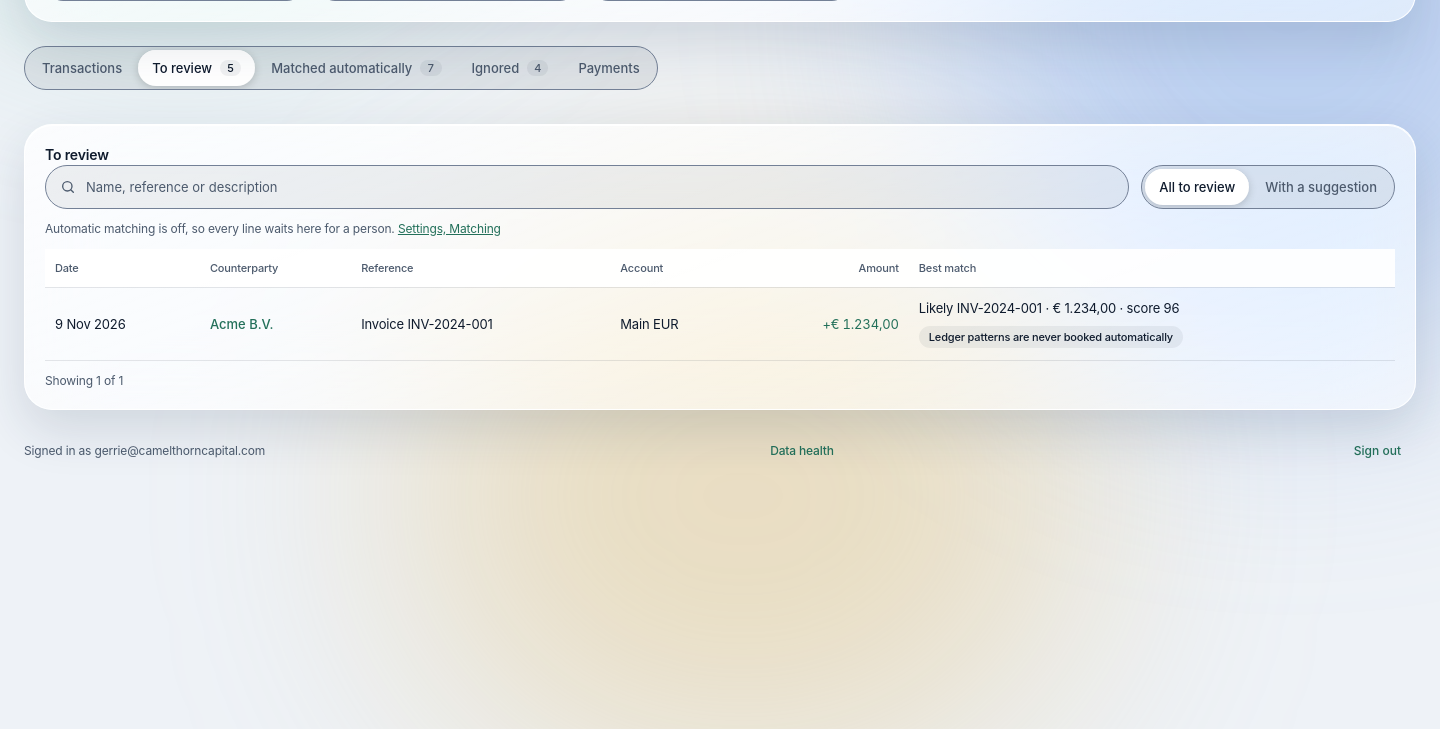
it: match sheet boundary › a malformed detail leaves the page and the sheet's close button working
(page scrolled)
What coordinates should you click on to do the following:
click the button "Acme B.V."
I would click on:
 (242, 324)
Its box is [210, 312, 274, 336].
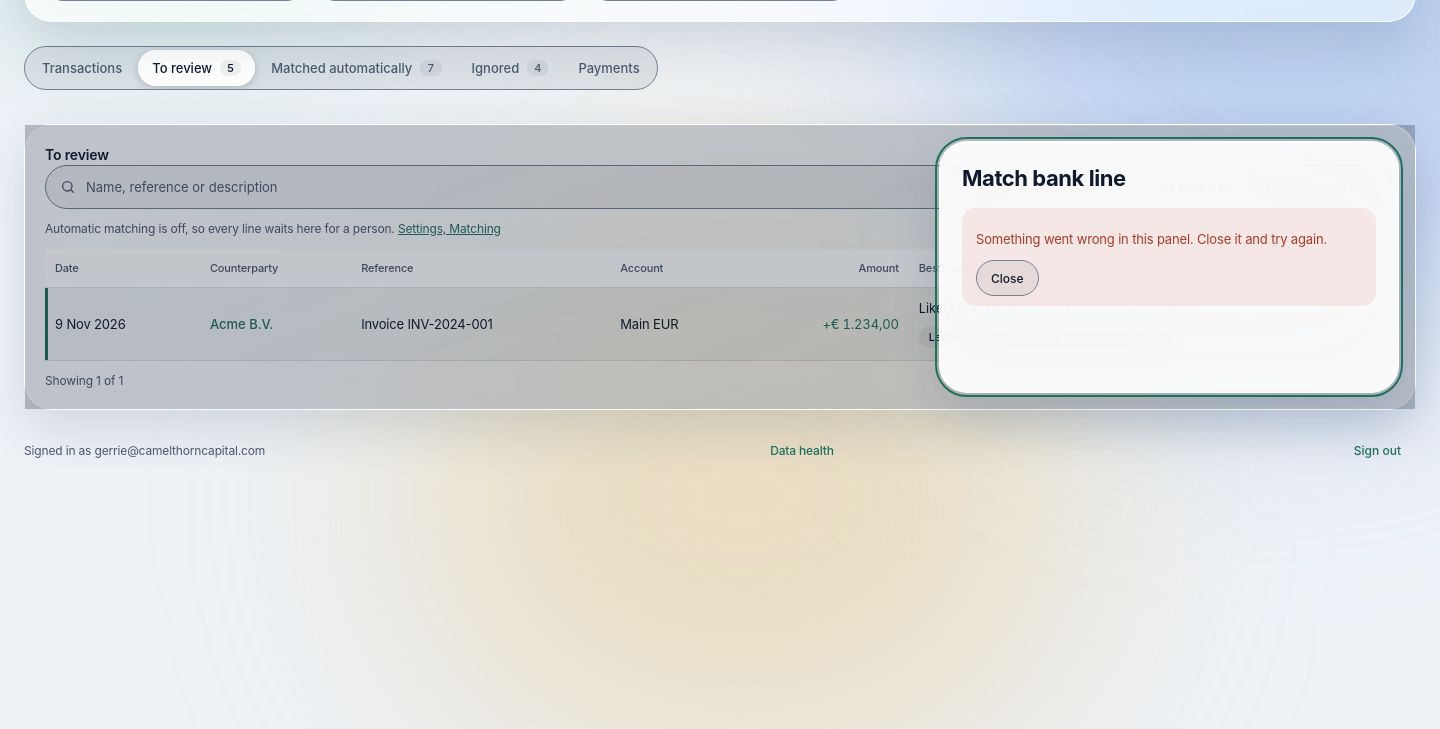
Now the text "Something went wrong in this panel. Close it and try again." is shown, box [976, 231, 1362, 247]
What coordinates should you click on to do the following:
click the button "Close"
I would click on:
 (1007, 278)
Its box is [976, 260, 1039, 296].
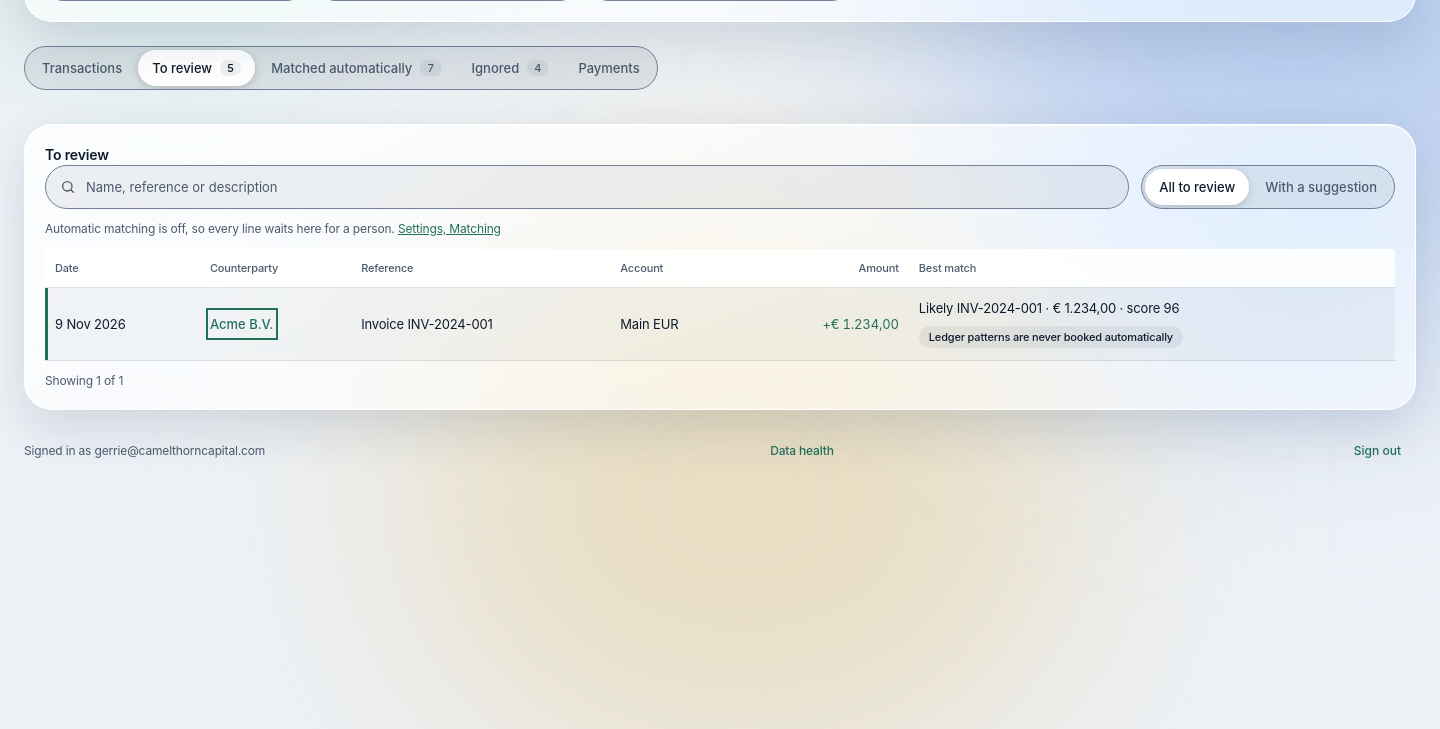
Expected: the table named "Bank lines to review" is shown, [45, 249, 1395, 361]
Now the dialog is gone
